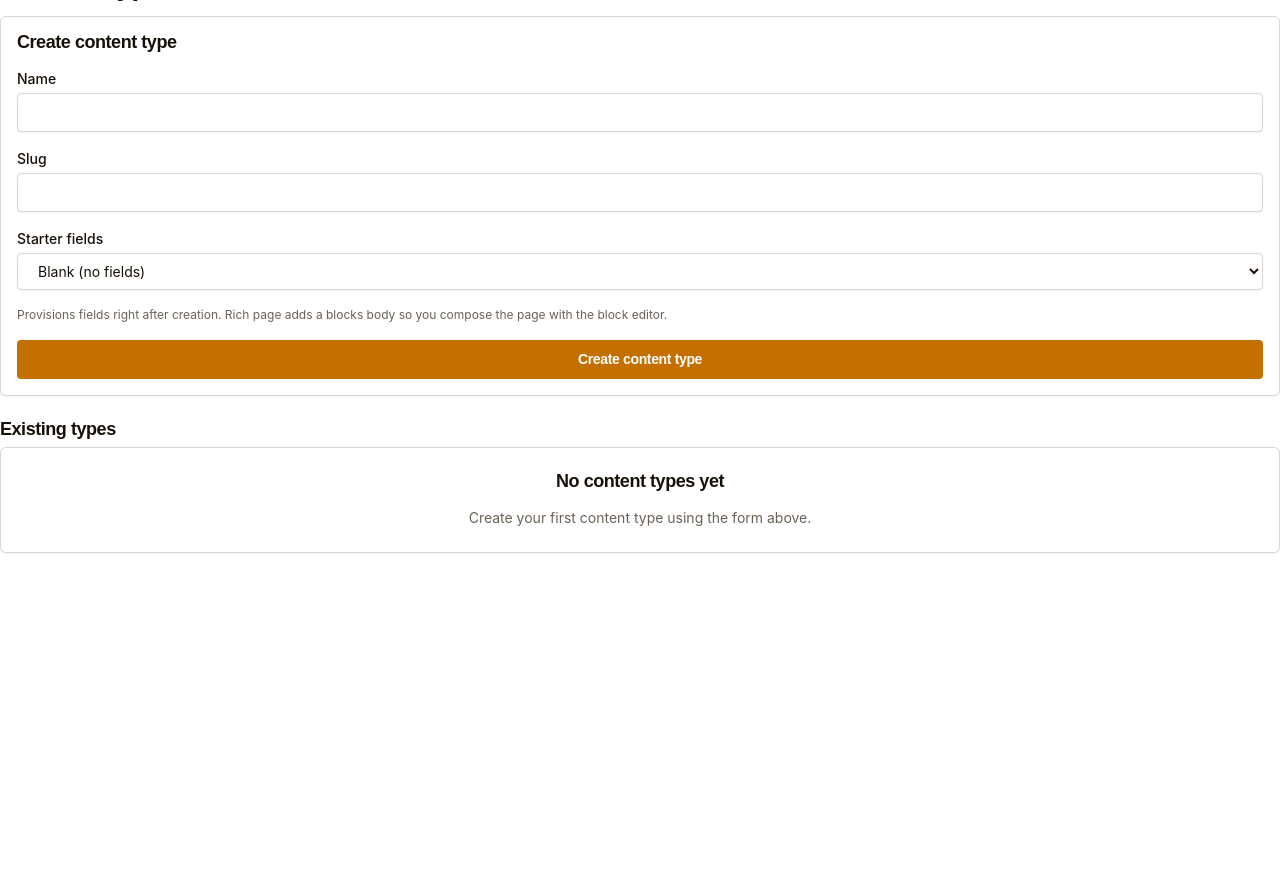
EntityTypesPage › updates an entity type name and slug
Type "Article" into the field labelled "Name" at (640, 113), box [17,93,1263,132]
Type "article" into the field labelled "Slug" at (640, 193), box [17,173,1263,212]
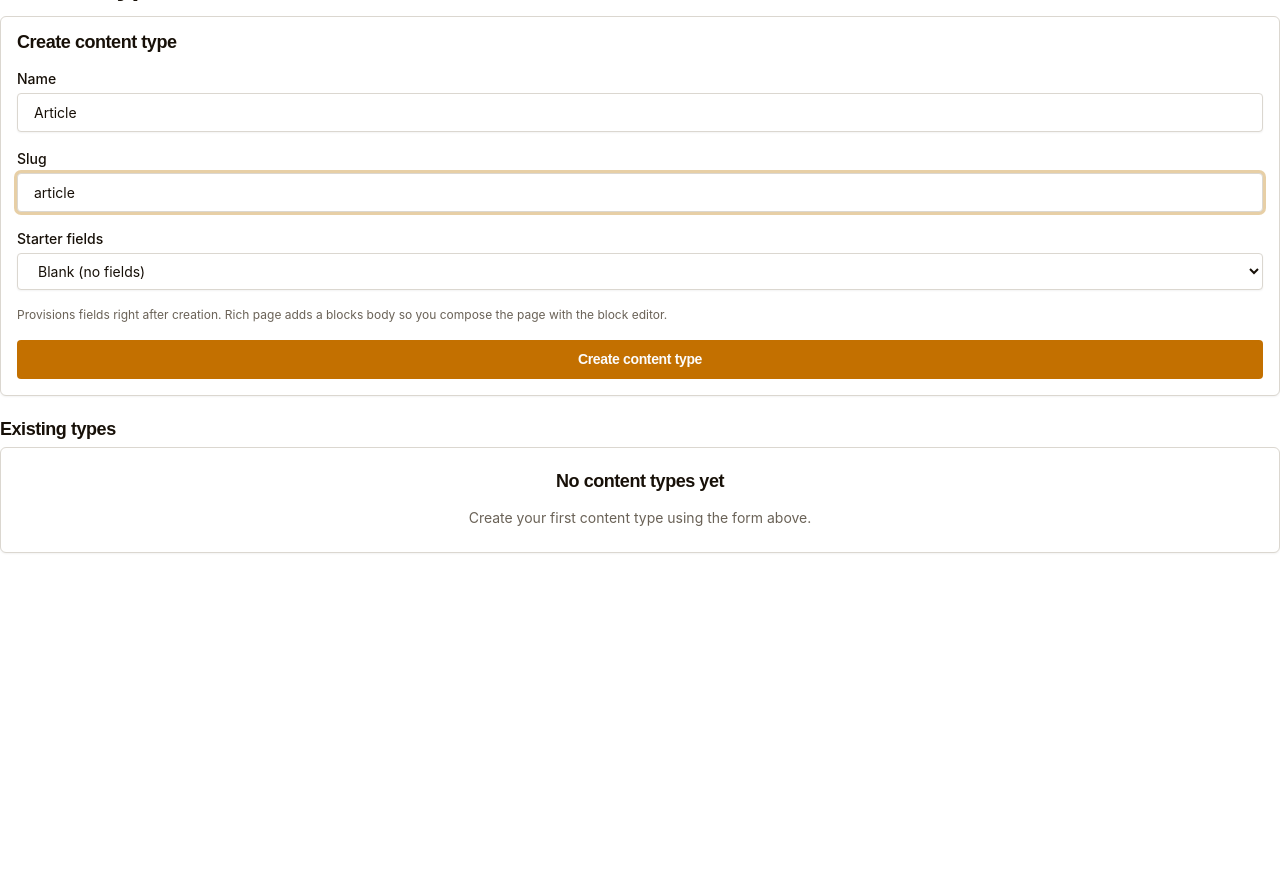
Click the button "Create content type" at (640, 360), box [17,340,1263,379]
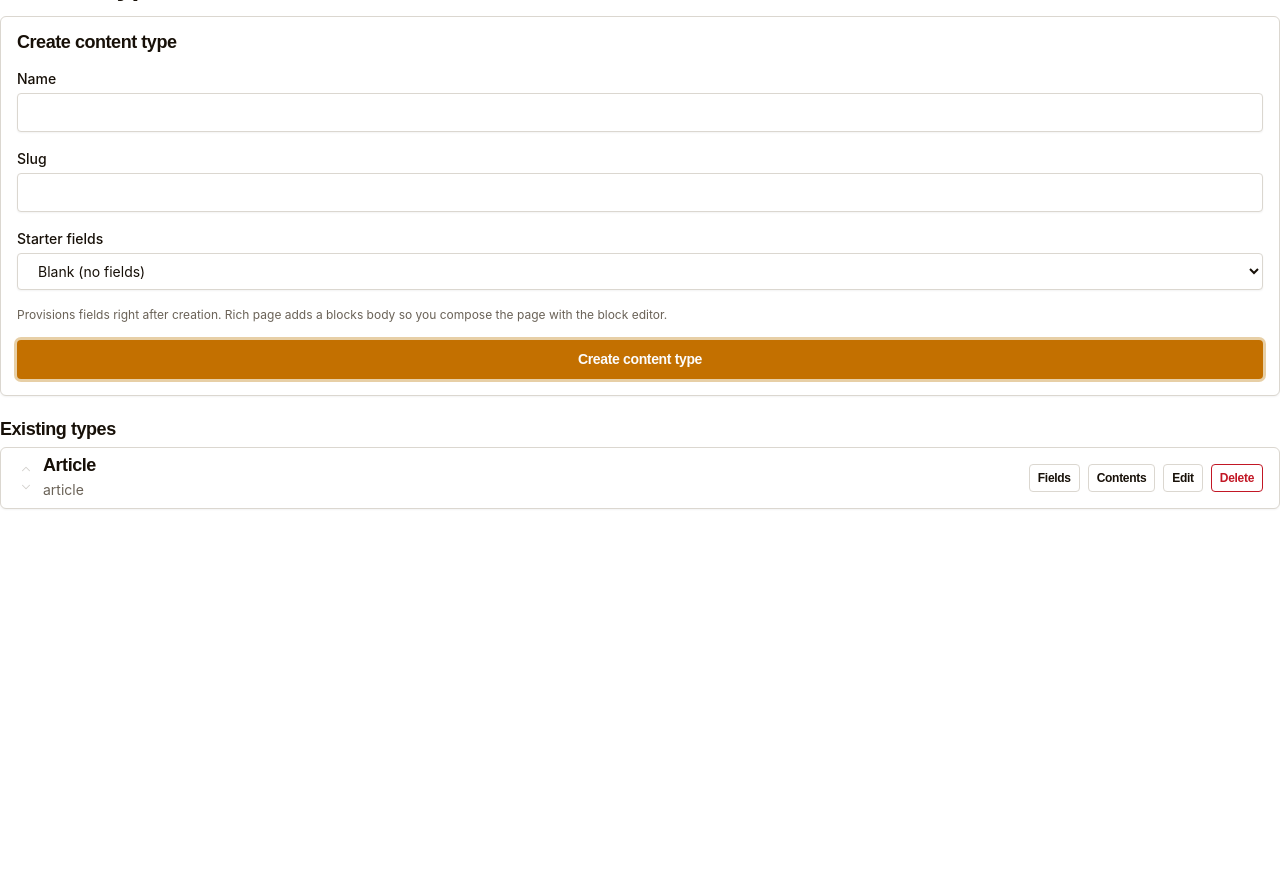
Now the text "Article" is shown, box [43,456,96,475]
Click the button "Edit" at (1183, 478), box [1163,464,1203,492]
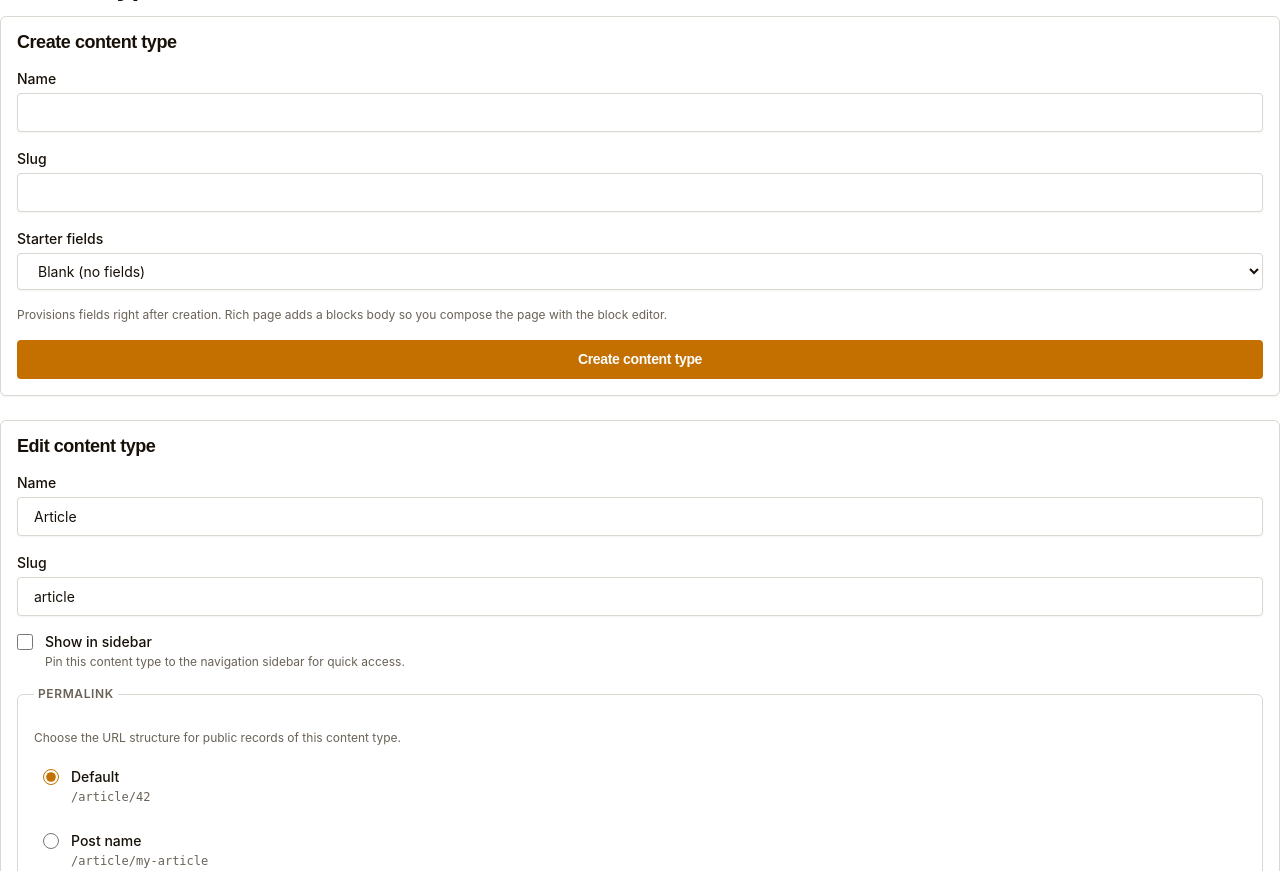
Replace the text in the field labelled "Name" below "Edit content type" with "Blog post" at (640, 517), box [17,497,1263,536]
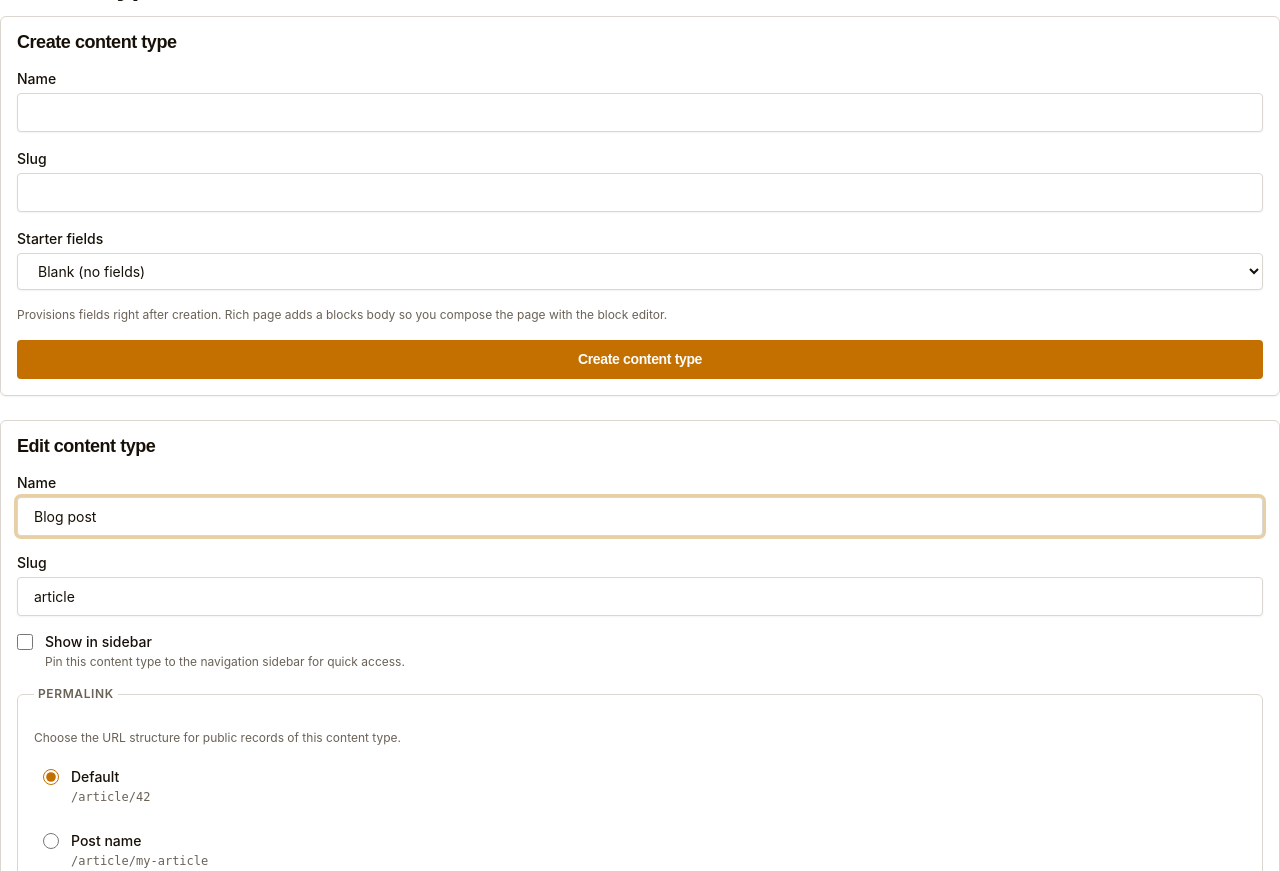
Replace the text in the field labelled "Slug" below "Edit content type" with "blog-post" at (640, 597), box [17,577,1263,616]
(page scrolled)
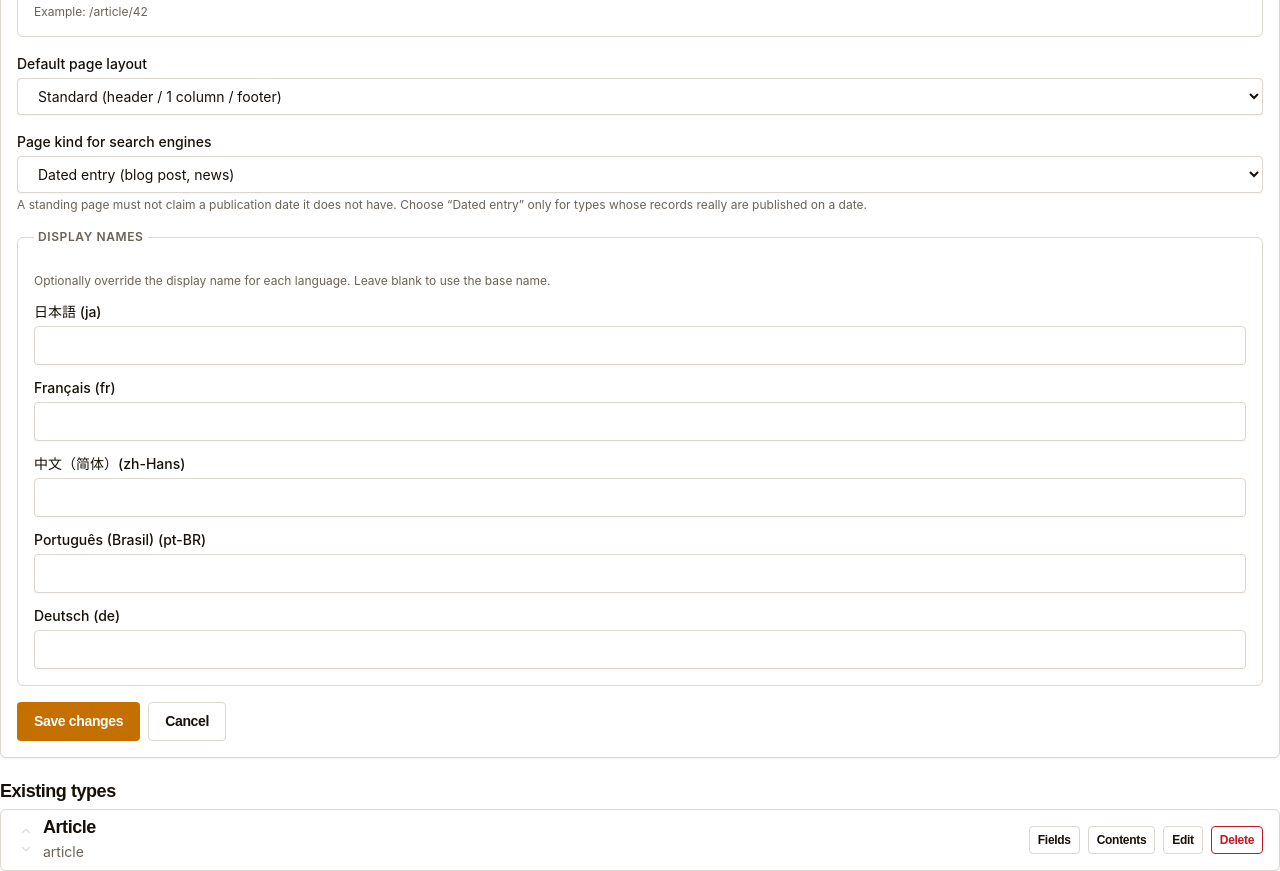
Click the button "Save changes" at (79, 722), box [17,702,140,741]
(page scrolled)
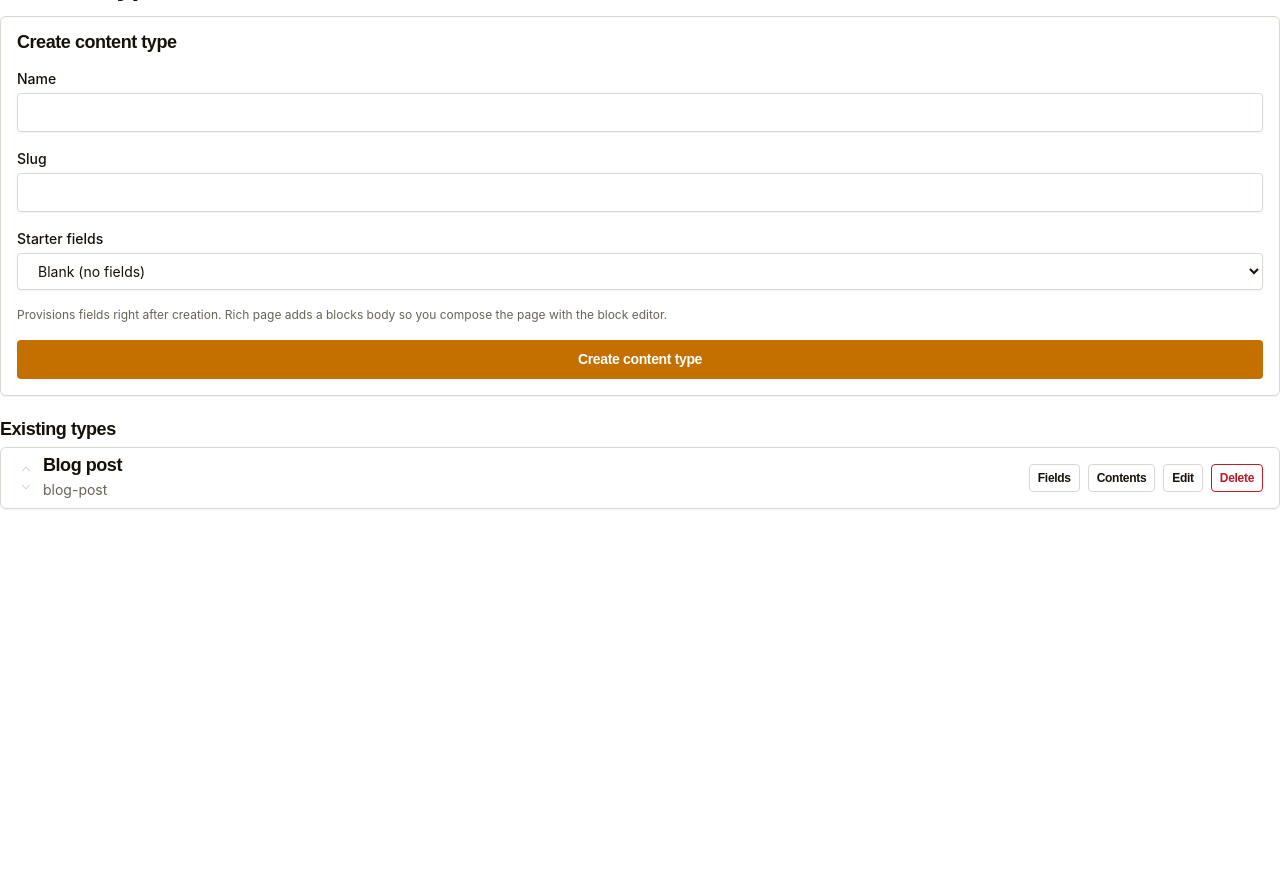
Now the text "Blog post" is shown, box [43,456,122,475]
Now the text "blog-post" is shown, box [43,481,107,498]
